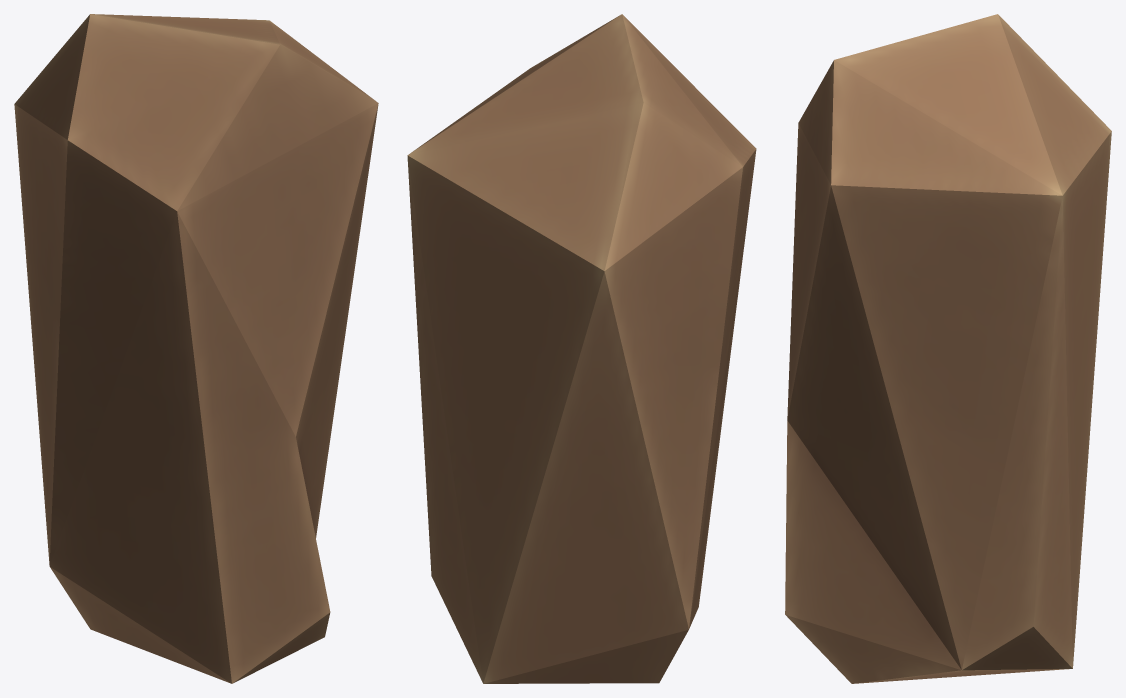
The model's file is Rock_1.fbx.
3 renders of one model, left to right at view 1: azimuth 30°, elevation 25°; view 2: azimuth 150°, elevation 25°; view 3: azimuth 270°, elevation 25°, orthographic. The views are drawn at different scales.
Parts seen in each view (by area): view 1: Rock_1; view 2: Rock_1; view 3: Rock_1.
Part boxes in pixels (bbox=[...]): Rock_1: bbox=[14, 14, 378, 683]; Rock_1: bbox=[407, 14, 756, 683]; Rock_1: bbox=[785, 14, 1111, 683].
Size of the model in its own units: 17.09 by 36.33 by 17.98.
